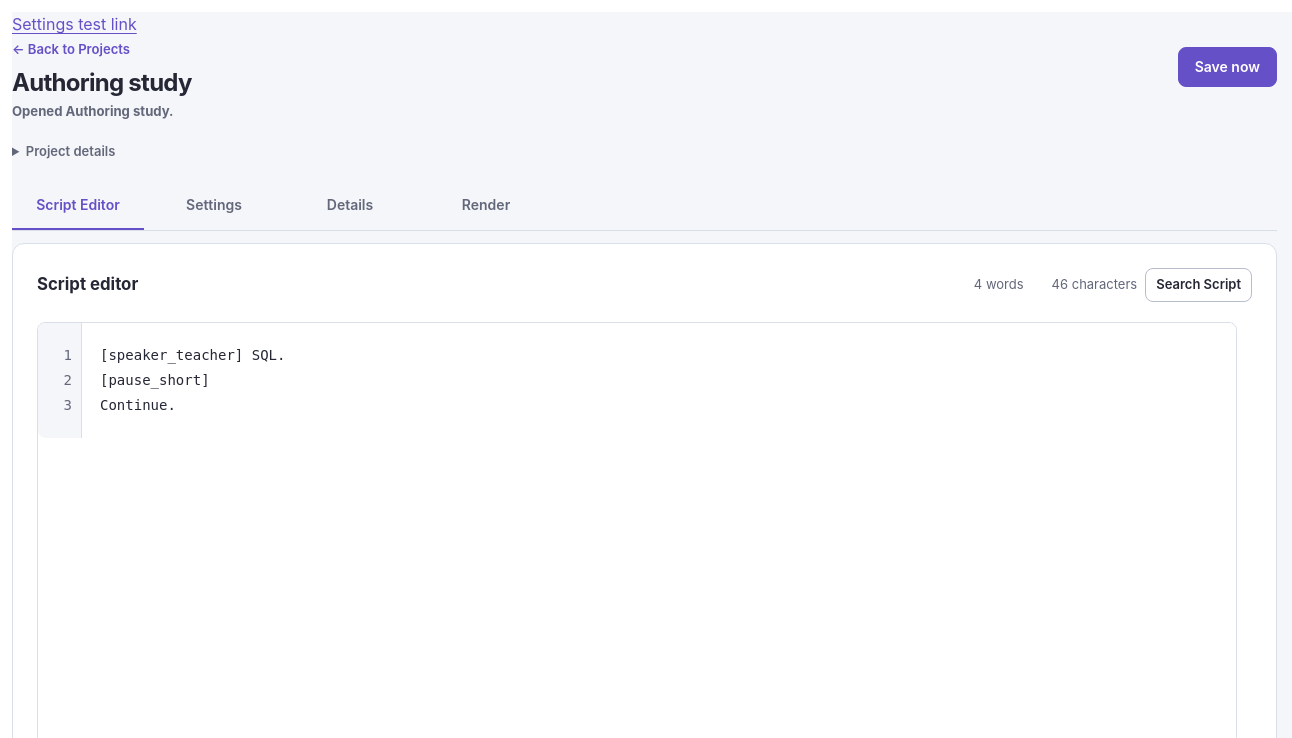
Test: Projects workbench › preserves the saved voice on discovery failure and retries without a synthesis request
What coordinates should you click on to do the following:
click the tab "Settings"
I would click on:
 (214, 206)
Its box is 148,182 -> 280,230.
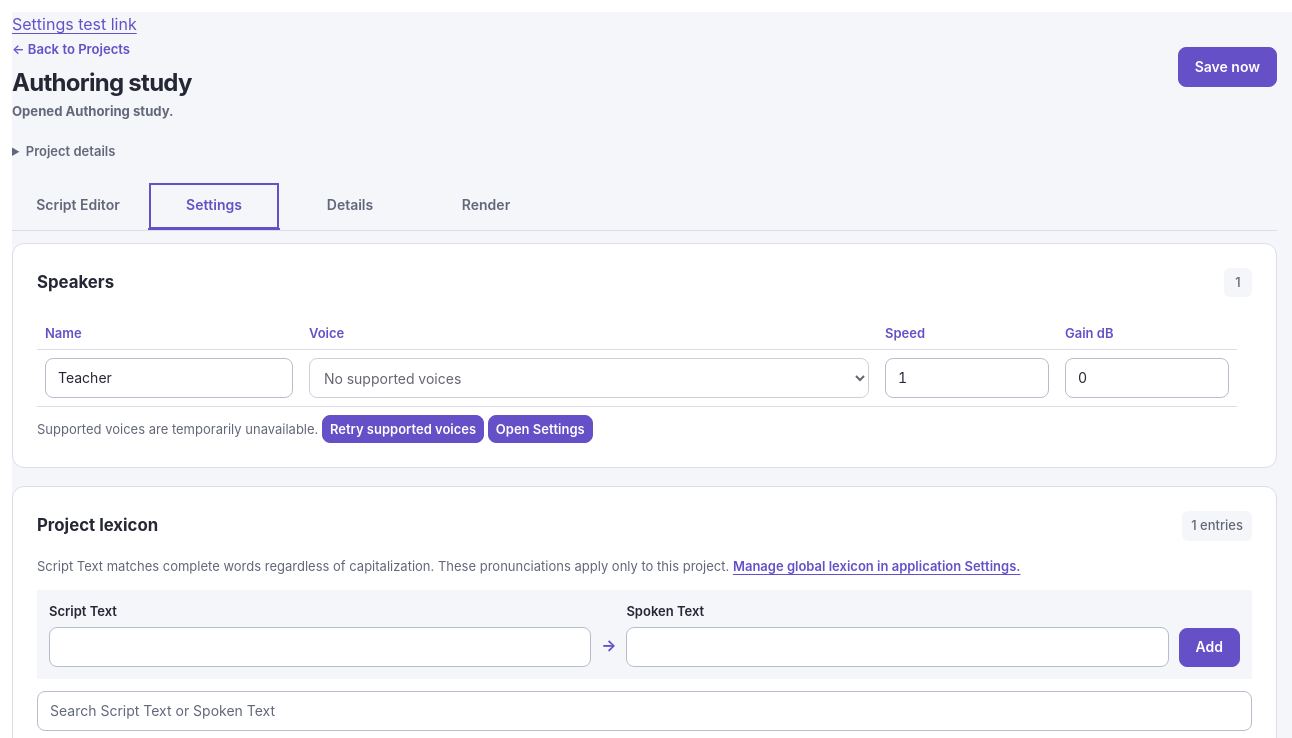
Expected: the text "voice-a" is not shown
Expected: the dropdown named "Voice for speaker teacher" is disabled, 309,358 -> 869,398
Expected: the text "Supported voices are temporarily unavailable." is shown, 37,421 -> 318,437
What coordinates should you click on to do the following:
click the button "Retry supported voices"
I would click on:
 (403, 429)
Its box is 322,415 -> 484,443.
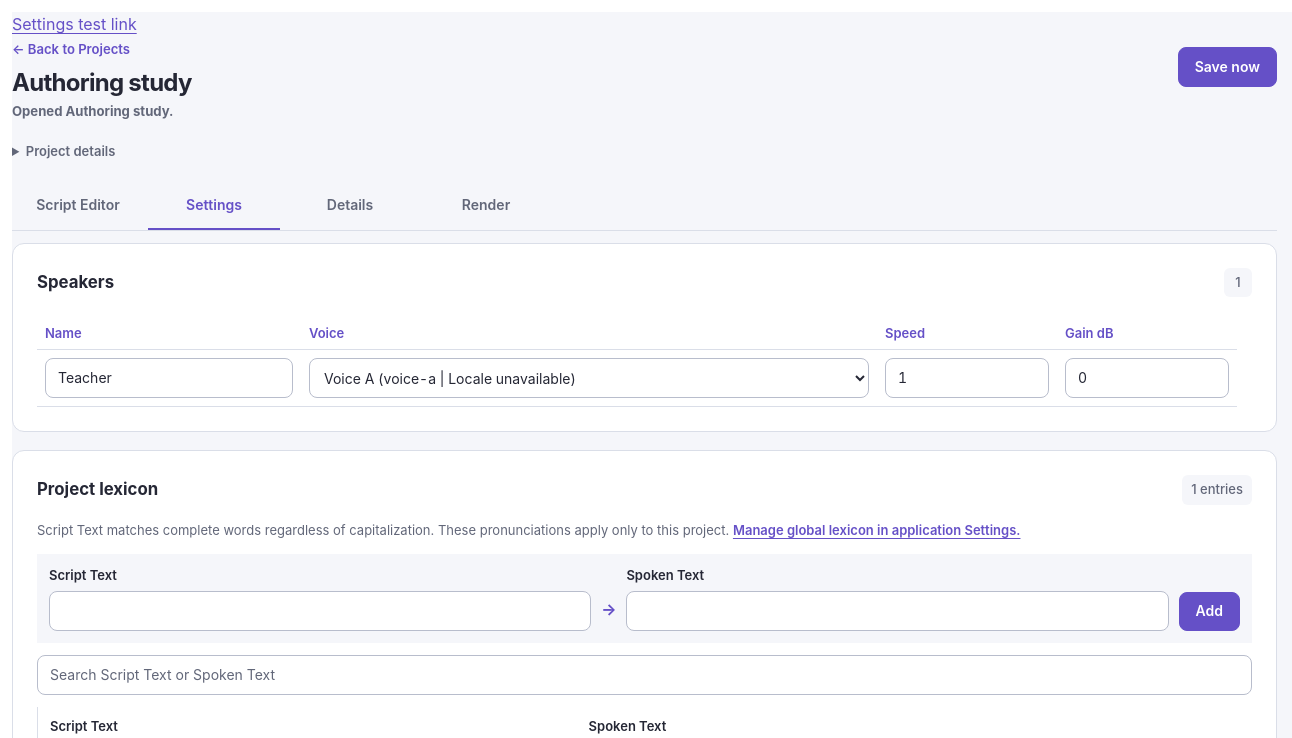
Expected: the dropdown named "Voice for speaker teacher" shows "Voice A (voice-a | Locale unavailable)", 309,358 -> 869,398
